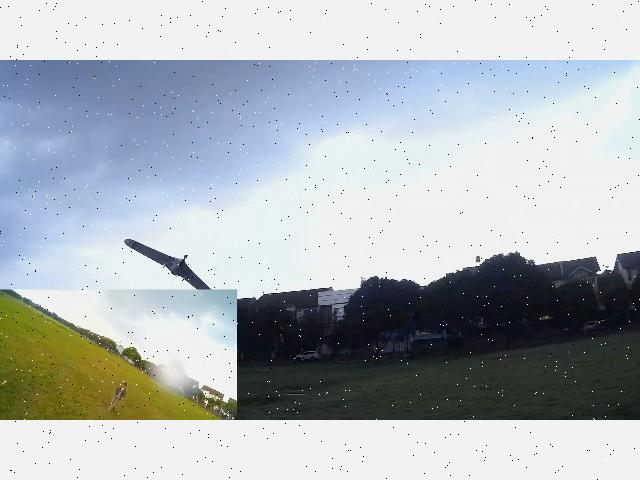Anti-Drone: (118, 232, 220, 290)
